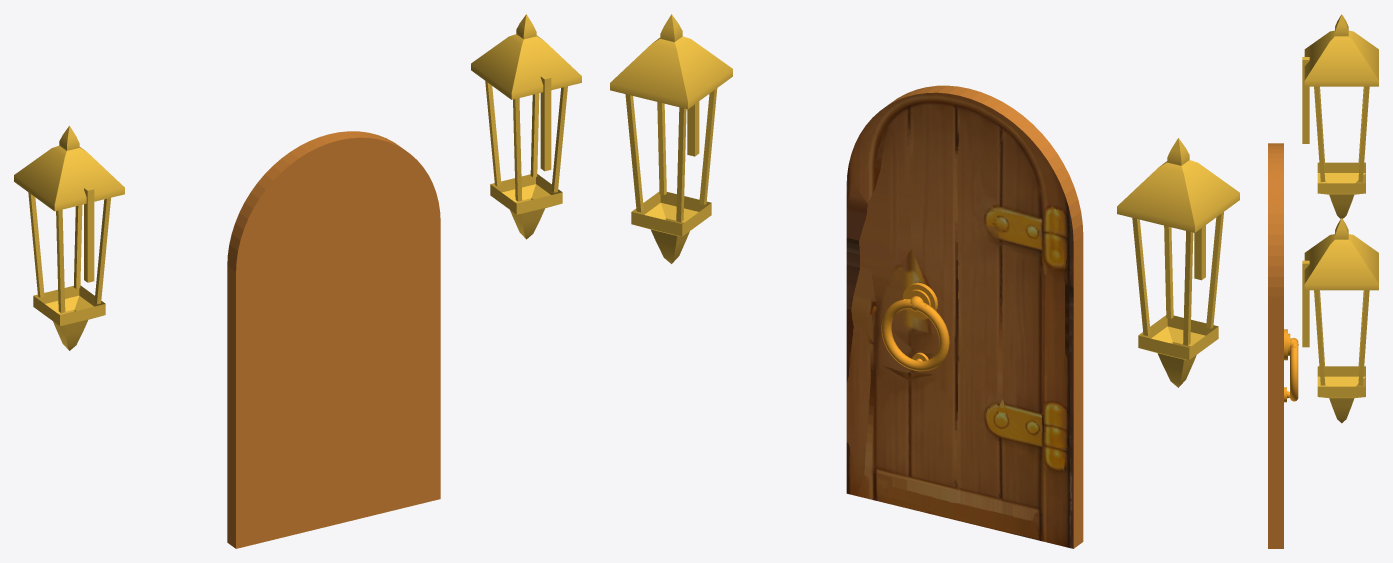
The model's file is HaloDomeHouse_11_deco.glb.
3 renders of one model, left to right at view 1: azimuth 30°, elevation 25°; view 2: azimuth 150°, elevation 25°; view 3: azimuth 270°, elevation 25°, orthographic. The views are drawn at different scales.
Parts seen in each view (by area): view 1: HaloDomeHouse_11_Leaf, HaloDomeHouse_11_Lantern1, HaloDomeHouse_11_Lantern0; view 2: HaloDomeHouse_11_Leaf, HaloDomeHouse_11_Lantern1, HaloDomeHouse_11_Lantern0, Orn_HaloDomeHouse_11_Knocker; view 3: HaloDomeHouse_11_Lantern1, HaloDomeHouse_11_Lantern0, HaloDomeHouse_11_Leaf, Orn_HaloDomeHouse_11_Knocker.
Boxes of the visible parts, left/top/right/bottom form: HaloDomeHouse_11_Leaf: left=227, top=131, right=440, bottom=548; HaloDomeHouse_11_Lantern1: left=471, top=14, right=581, bottom=239; HaloDomeHouse_11_Lantern0: left=14, top=126, right=124, bottom=350; HaloDomeHouse_11_Leaf: left=846, top=85, right=1083, bottom=548; HaloDomeHouse_11_Lantern1: left=610, top=14, right=732, bottom=263; HaloDomeHouse_11_Lantern0: left=1117, top=138, right=1239, bottom=387; Orn_HaloDomeHouse_11_Knocker: left=881, top=282, right=949, bottom=371; HaloDomeHouse_11_Lantern1: left=1302, top=218, right=1378, bottom=423; HaloDomeHouse_11_Lantern0: left=1302, top=14, right=1378, bottom=218; HaloDomeHouse_11_Leaf: left=1268, top=143, right=1283, bottom=548; Orn_HaloDomeHouse_11_Knocker: left=1284, top=329, right=1298, bottom=402.
Size of the model in its own units: 11.08 by 8.53 by 2.21.
3 materials, 1 textured.
